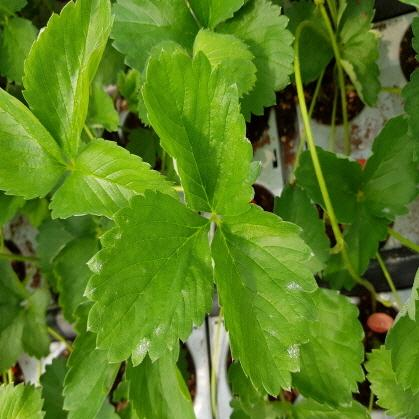Powdery Mildew Leaf: (81, 188, 215, 368), (208, 202, 321, 398), (140, 46, 263, 218), (20, 0, 116, 158)
